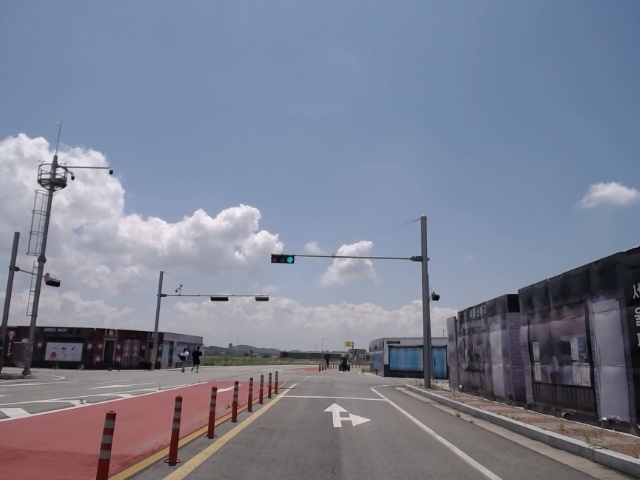green_3: (271, 254, 294, 263)
